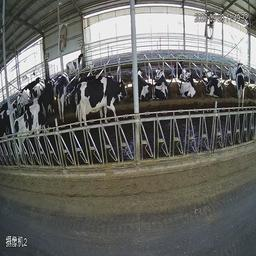cow: (7, 99, 55, 160), (85, 76, 130, 131), (53, 65, 71, 118), (30, 68, 52, 111), (175, 60, 197, 103), (201, 62, 225, 101), (233, 55, 249, 110), (137, 60, 154, 106), (153, 67, 171, 108), (62, 49, 86, 74), (74, 78, 83, 121)
